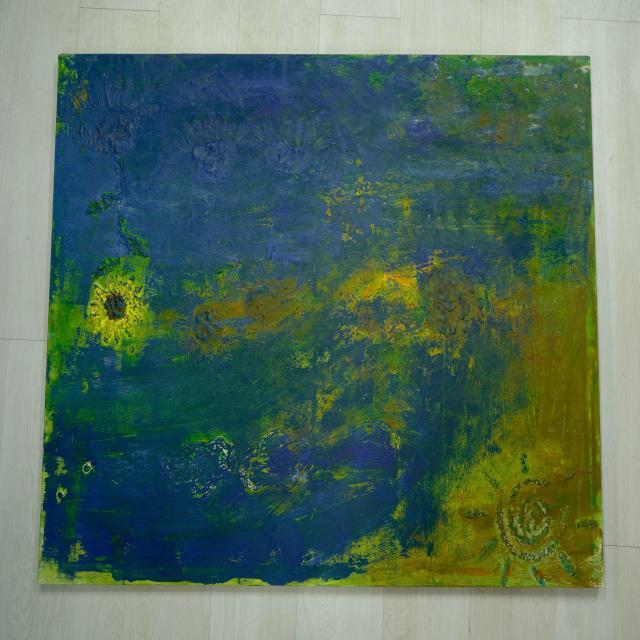painting: (39, 55, 602, 586)
